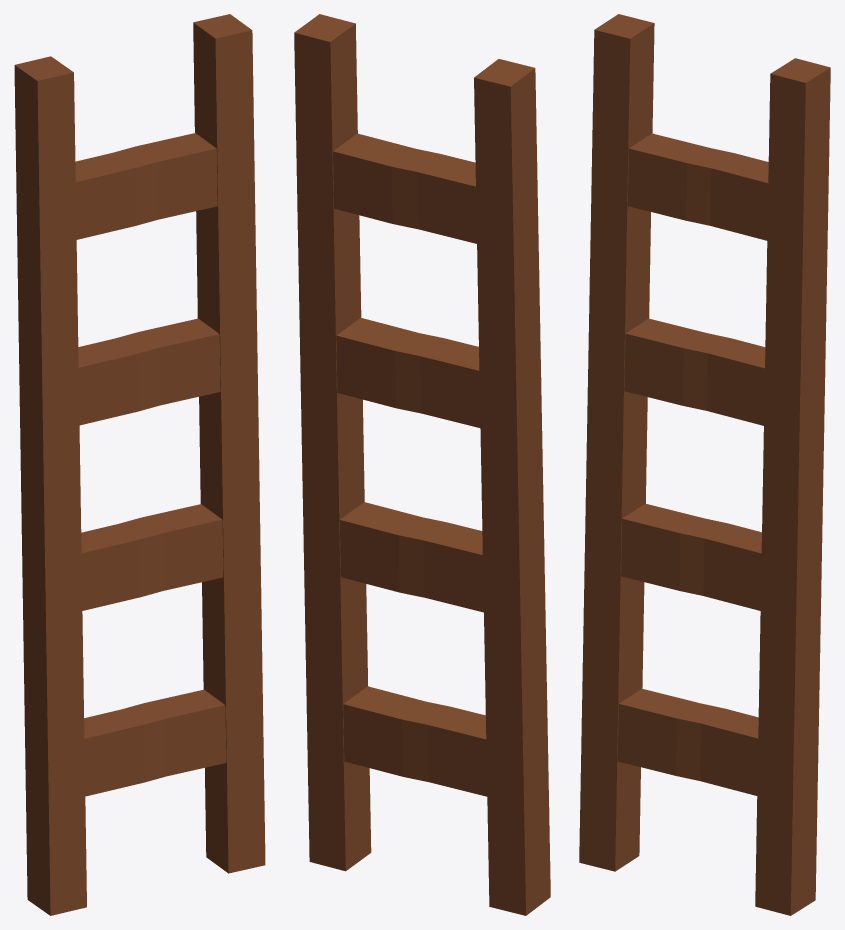
Rendered from SM_escaleras_1.fbx.
3 renders of one model, left to right at view 1: azimuth 30°, elevation 25°; view 2: azimuth 150°, elevation 25°; view 3: azimuth 330°, elevation 25°, orthographic. The views are drawn at different scales.
Parts seen in each view (by area): view 1: Cube.013; view 2: Cube.013; view 3: Cube.013.
Part boxes in pixels (x1,y1,x2,y2): Cube.013: (14,14,265,915); Cube.013: (294,14,550,915); Cube.013: (579,14,830,915).
Bounding box in the file's own units: 73.58 × 269 × 23.19.
